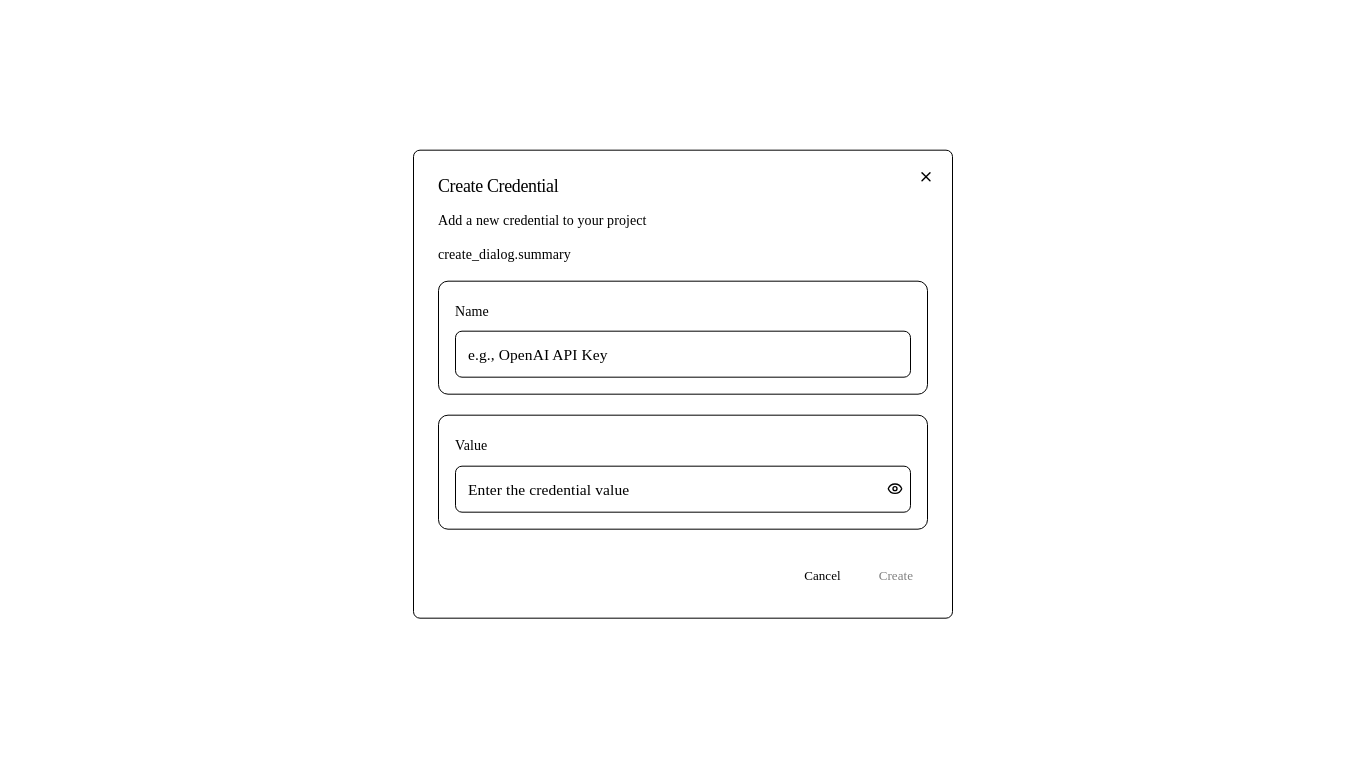
Scenario: CreateCredentialDialog › Form Submission › shows loading state during submission
In the field labelled "Name": [683, 355] box [455,331,911,378], type "My Credential"
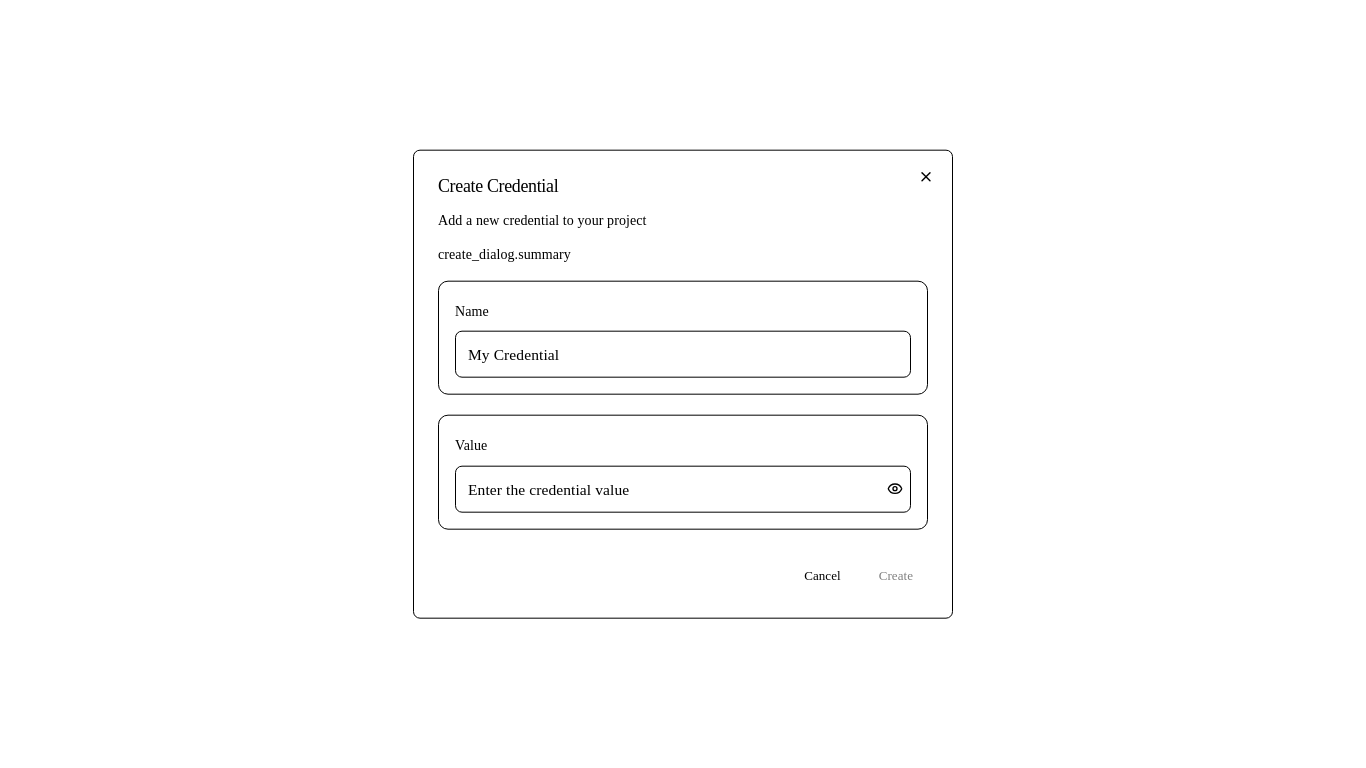
In the password field labelled "Value": [683, 489] box [455,465,911,512], type "secret-value"
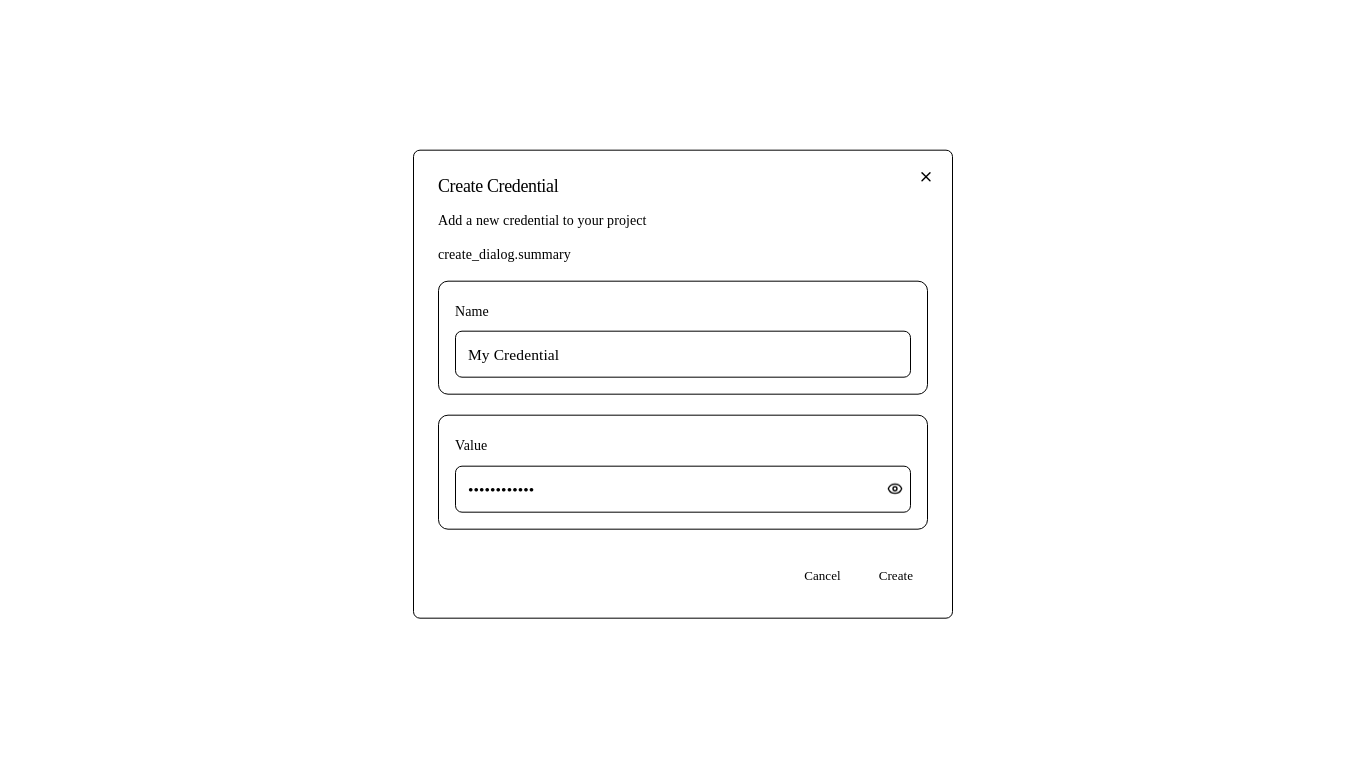
Click the button "Create": [896, 575] box [864,557,928,593]
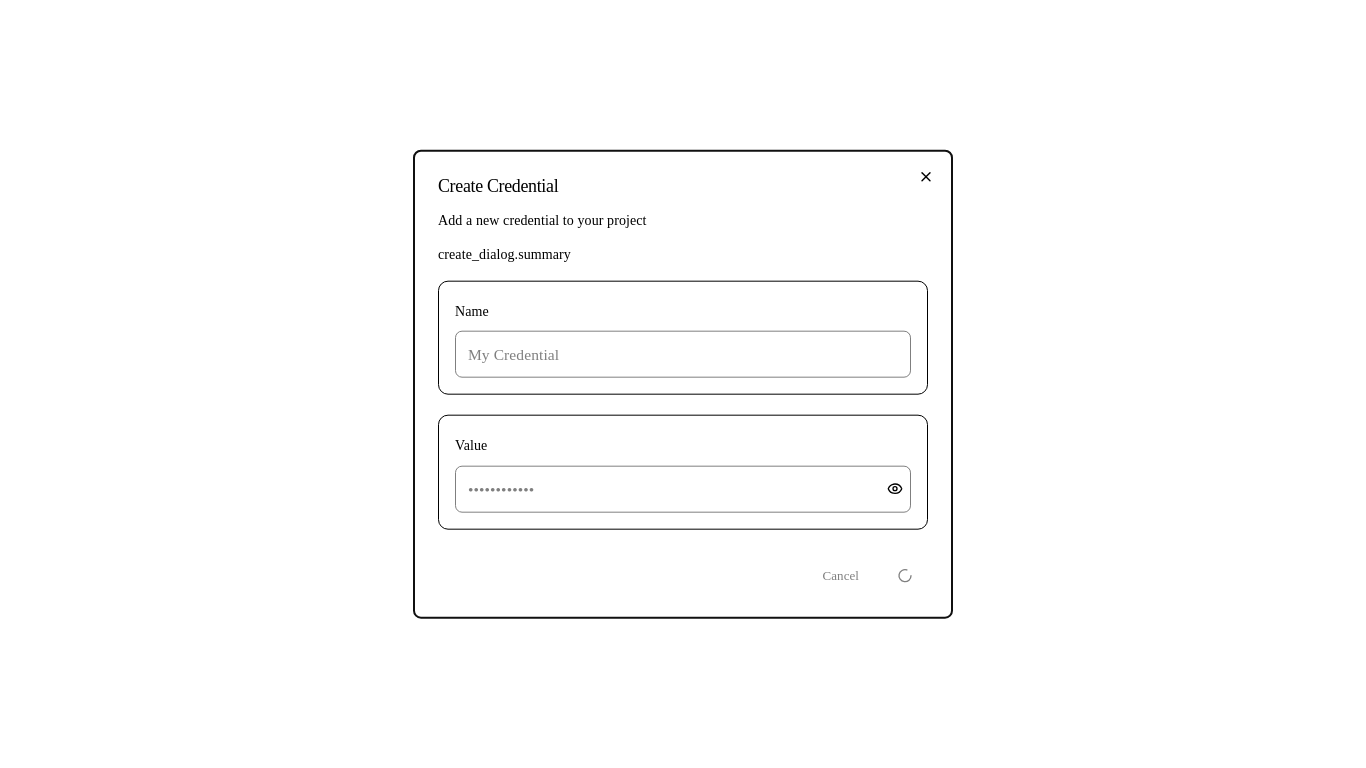
Expected: the button named "create" is disabled, [882,557,928,593]
